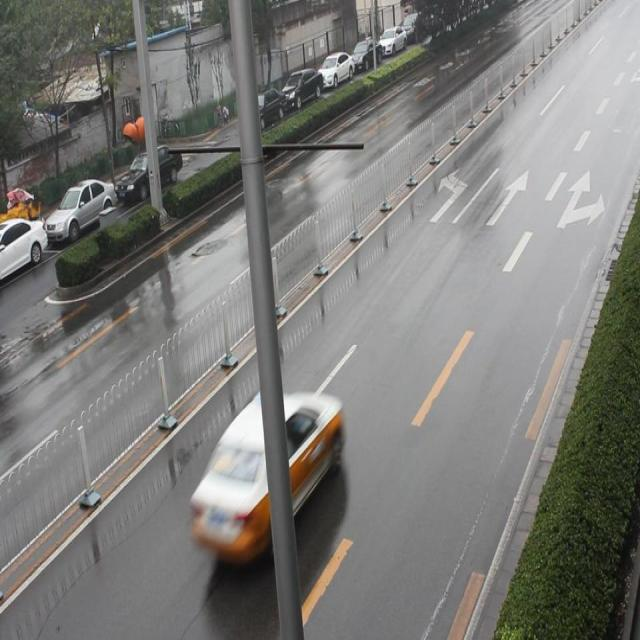car: (196, 375, 349, 566)
